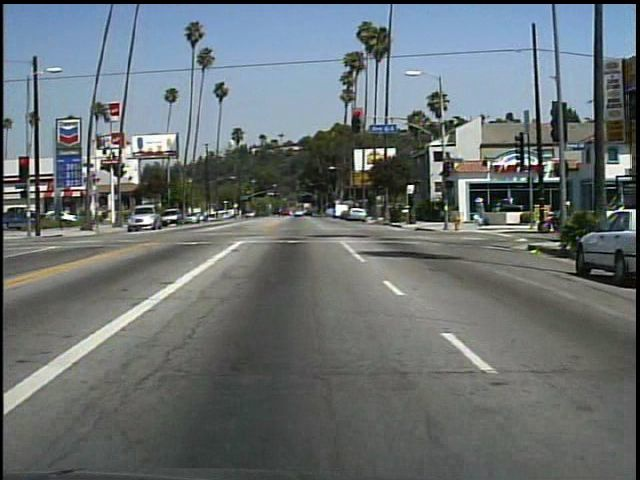person: (552, 194, 576, 235), (471, 193, 487, 227)
